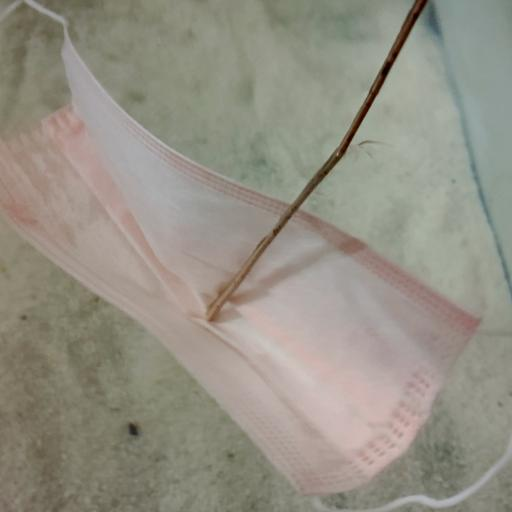mask: (2, 2, 471, 482)
